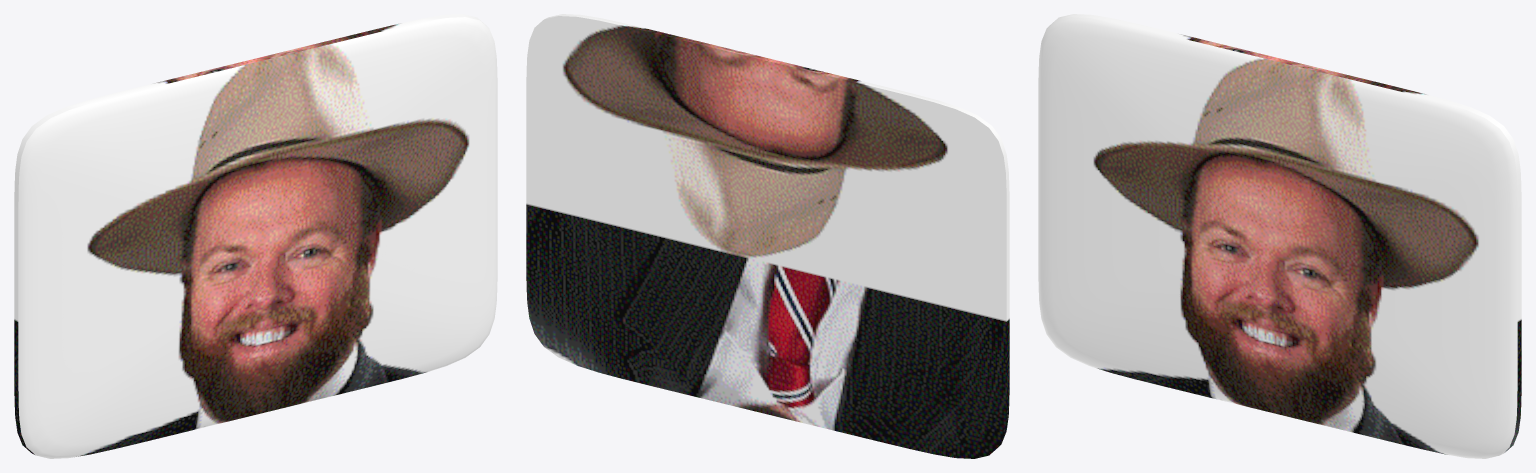
The model's file is testUV5.gltf.
3 renders of one model, left to right at view 1: azimuth 30°, elevation 25°; view 2: azimuth 150°, elevation 25°; view 3: azimuth 330°, elevation 25°, orthographic.
Visible parts, largest first — view 1: Glass; view 2: Glass; view 3: Glass.
Boxes of the visible parts, <box> form: Glass: <box>14,14,497,458</box>; Glass: <box>526,14,1009,458</box>; Glass: <box>1038,14,1521,458</box>.
Bounding box in the file's own units: 2 × 1.41 × 0.1.
Materials: 1 (1 with a texture image).
